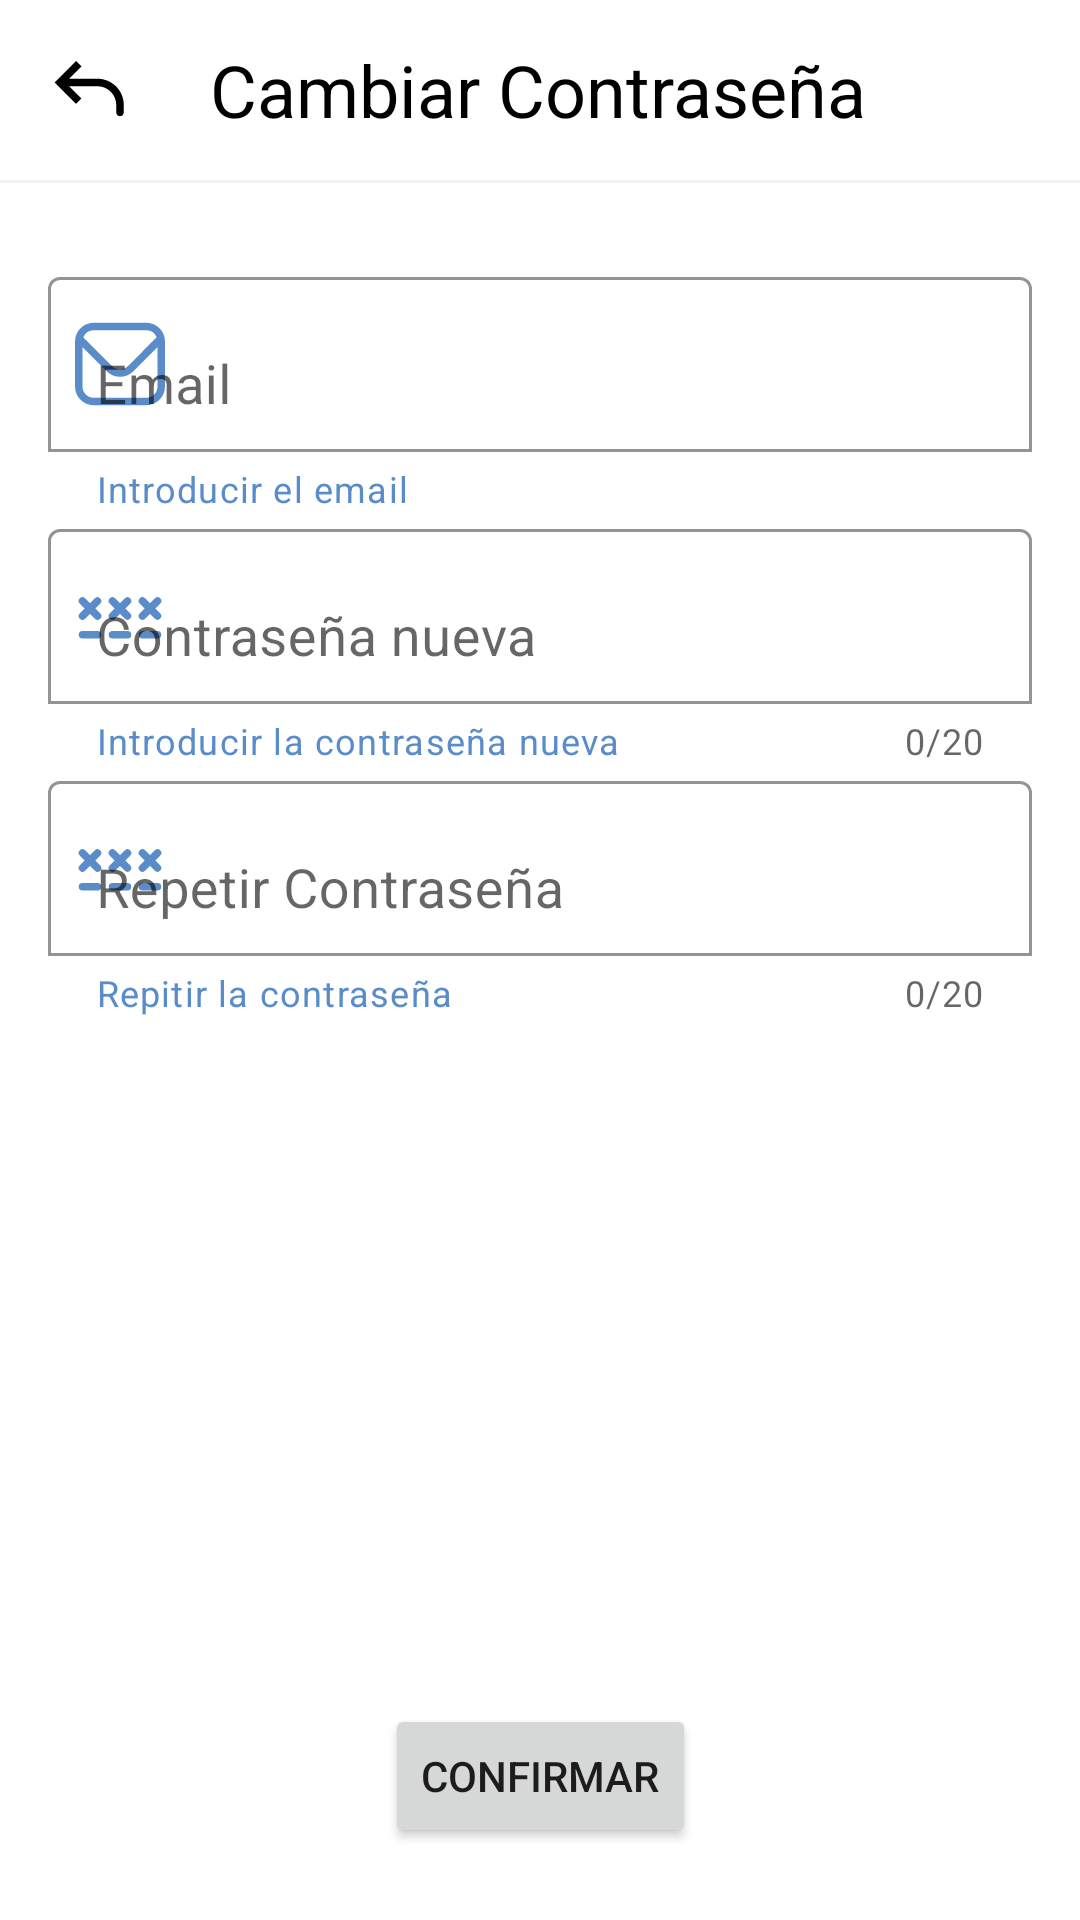

Screen size 1080x1920. Icon name, then its box in pixels as (left=x1, top=y1, right=x2, bottom=y2):
Botón volver: (left=54, top=61, right=124, bottom=117)
